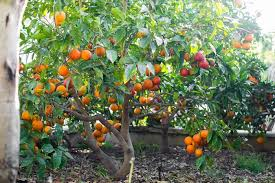orange: (67, 48, 79, 61), (81, 48, 92, 62), (141, 78, 153, 89), (199, 129, 210, 138), (133, 82, 142, 92), (184, 137, 192, 145)
